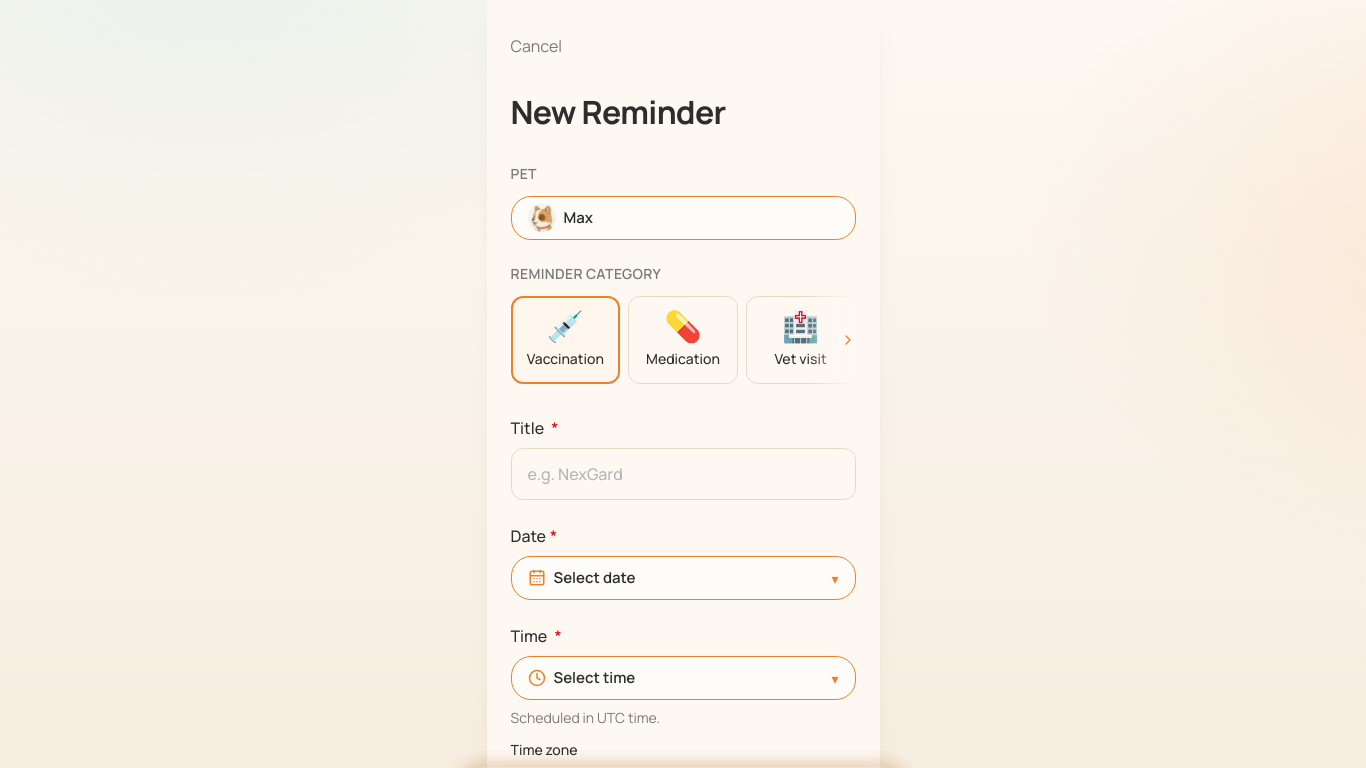
Scenario: ReminderForm › selects a date from the picker sheet
This screenshot has width=1366, height=768.
What coordinates should you click on to do the following:
click the button with aria-label "Date: Select date. Tap to change."
I would click on:
 (594, 577)
Its box is [510,556,856,600].
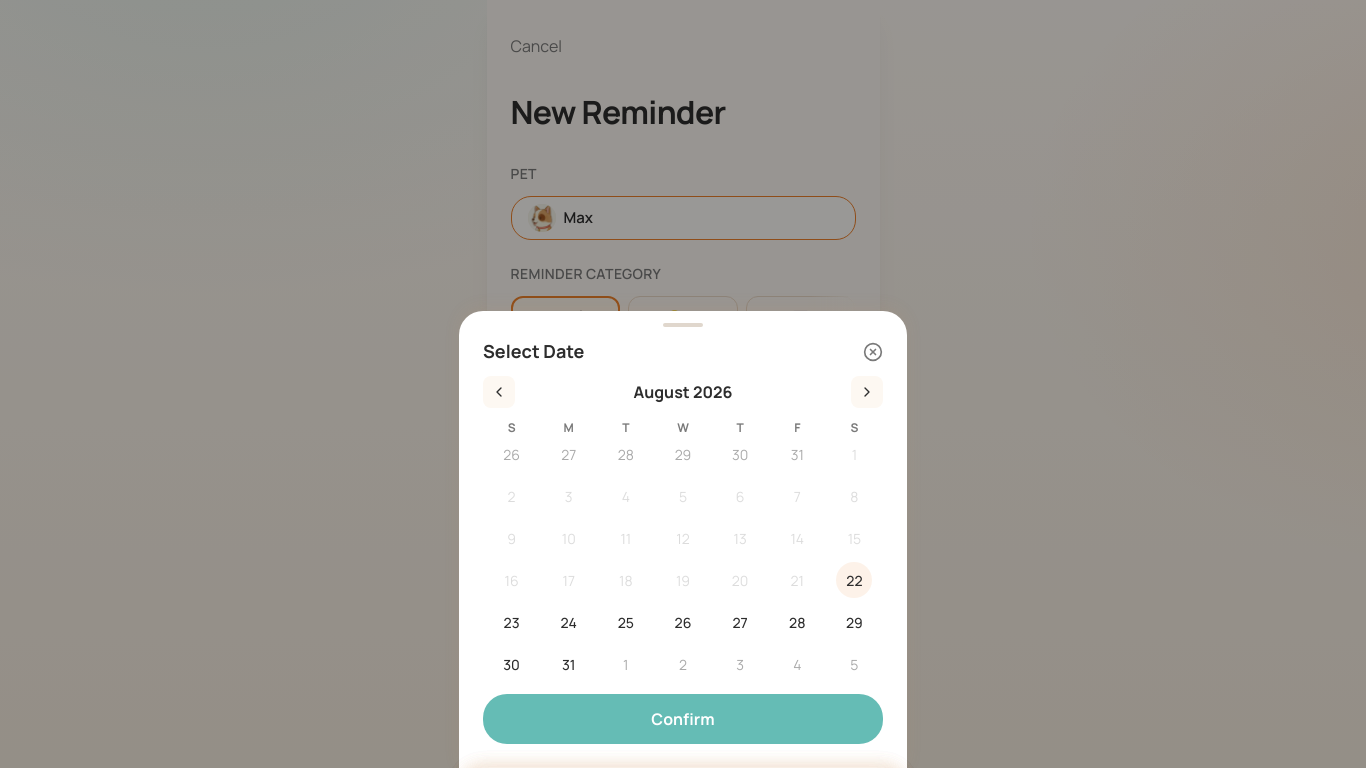
What coordinates should you click on to do the following:
click the button named "22 August 2026"
I would click on:
 (854, 580)
Its box is [836,562,872,598].
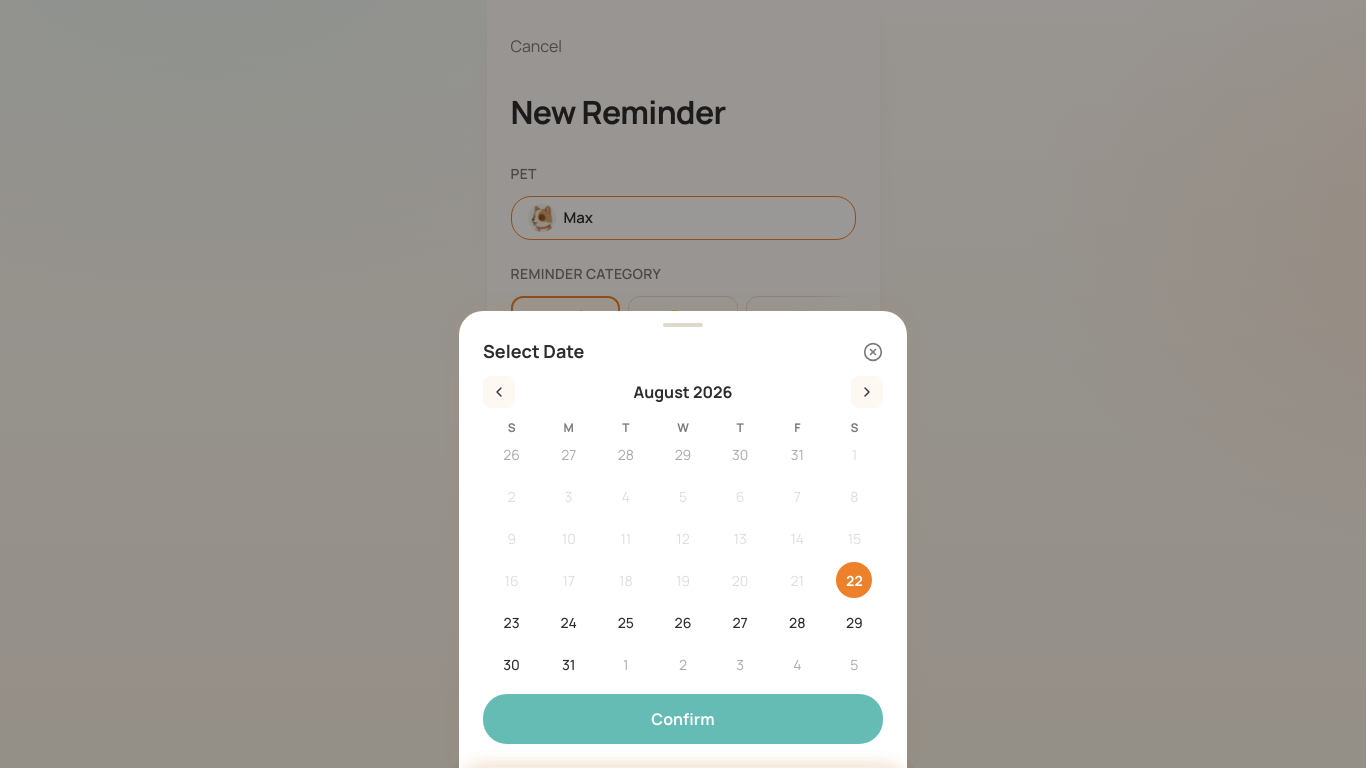
What coordinates should you click on to do the following:
click the button "Confirm"
I would click on:
 (683, 719)
Its box is [483,694,883,744].
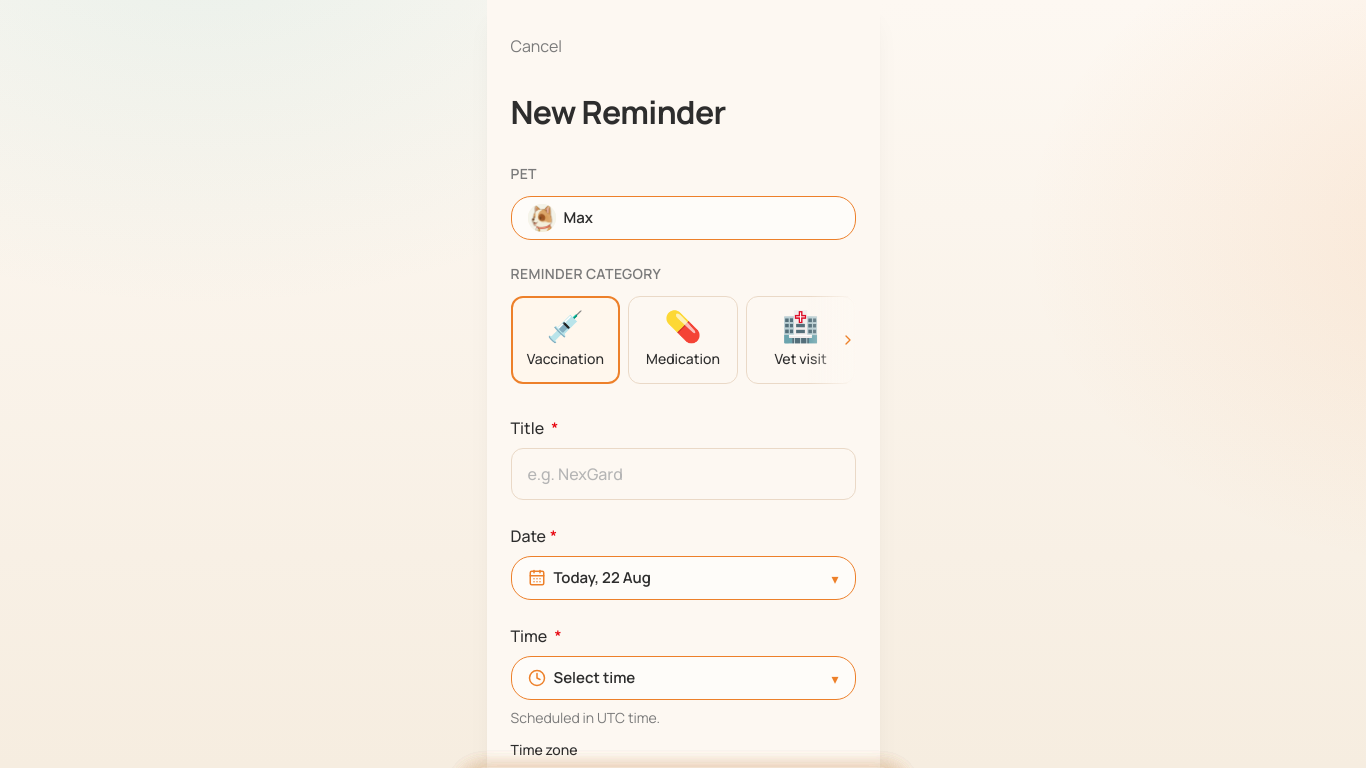
Now the button with aria-label "Date: Today, 22 Aug. Tap to change." is shown, box [510,556,856,600]
